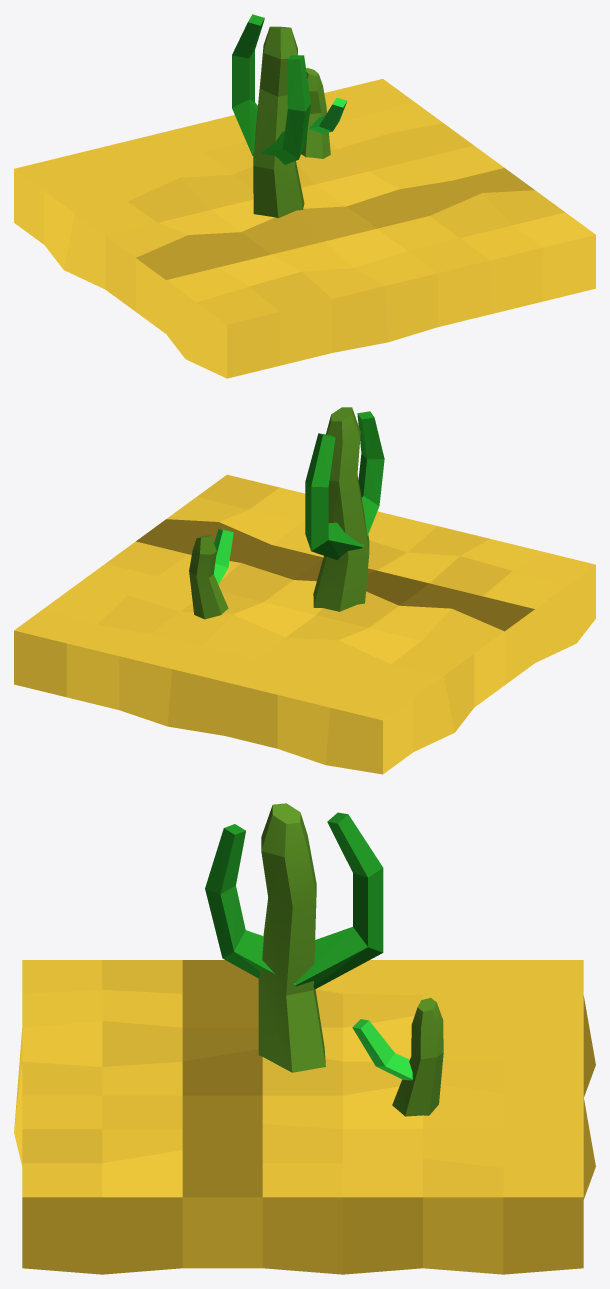
The model's file is sand2(1).fbx.
The picture shows the model from 3 angles, top to bottom: view 1: azimuth 30°, elevation 25°; view 2: azimuth 150°, elevation 25°; view 3: azimuth 270°, elevation 25°; orthographic projection. The views are drawn at different scales.
Visible parts, largest first — view 1: sand_all3, cactus; view 2: sand_all3, cactus; view 3: sand_all3, cactus.
Boxes of the visible parts, <box> form: sand_all3: <box>14,79,595,378</box>; cactus: <box>232,14,347,218</box>; sand_all3: <box>14,474,595,774</box>; cactus: <box>189,407,384,619</box>; sand_all3: <box>14,960,595,1274</box>; cactus: <box>205,803,443,1116</box>.
Bounding box in the file's own units: 108 × 64.7 × 106.
